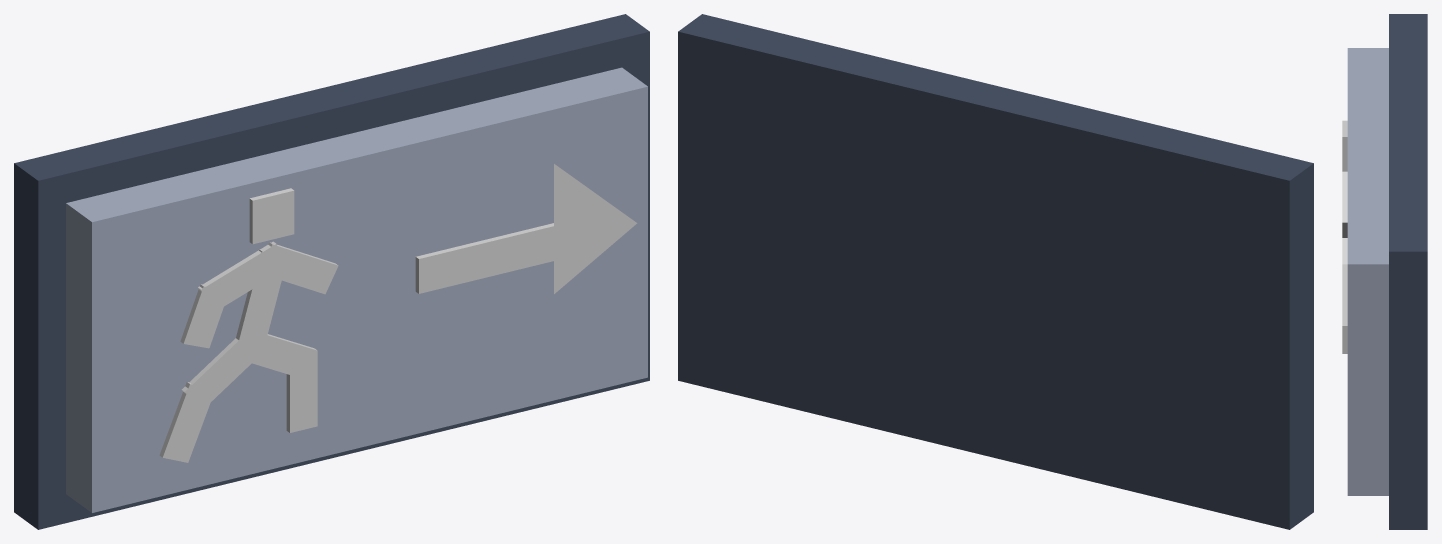
The model's file is SM_Light_Exit_Sign.glb.
3 renders of one model, left to right at view 1: azimuth 30°, elevation 25°; view 2: azimuth 150°, elevation 25°; view 3: azimuth 270°, elevation 25°, orthographic. The views are drawn at different scales.
Parts seen in each view (by area): view 1: SM_Light_Exit_Sign; view 2: SM_Light_Exit_Sign; view 3: SM_Light_Exit_Sign.
Boxes of the visible parts, x1,y1,x2,y2 form: SM_Light_Exit_Sign: [14, 14, 649, 529]; SM_Light_Exit_Sign: [678, 14, 1313, 529]; SM_Light_Exit_Sign: [1342, 14, 1427, 529].
Size of the model in its own units: 0.44 by 0.24 by 0.0665.
